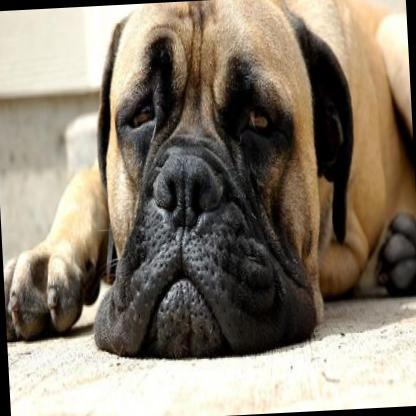bull_mastiff: (0, 0, 416, 366)
